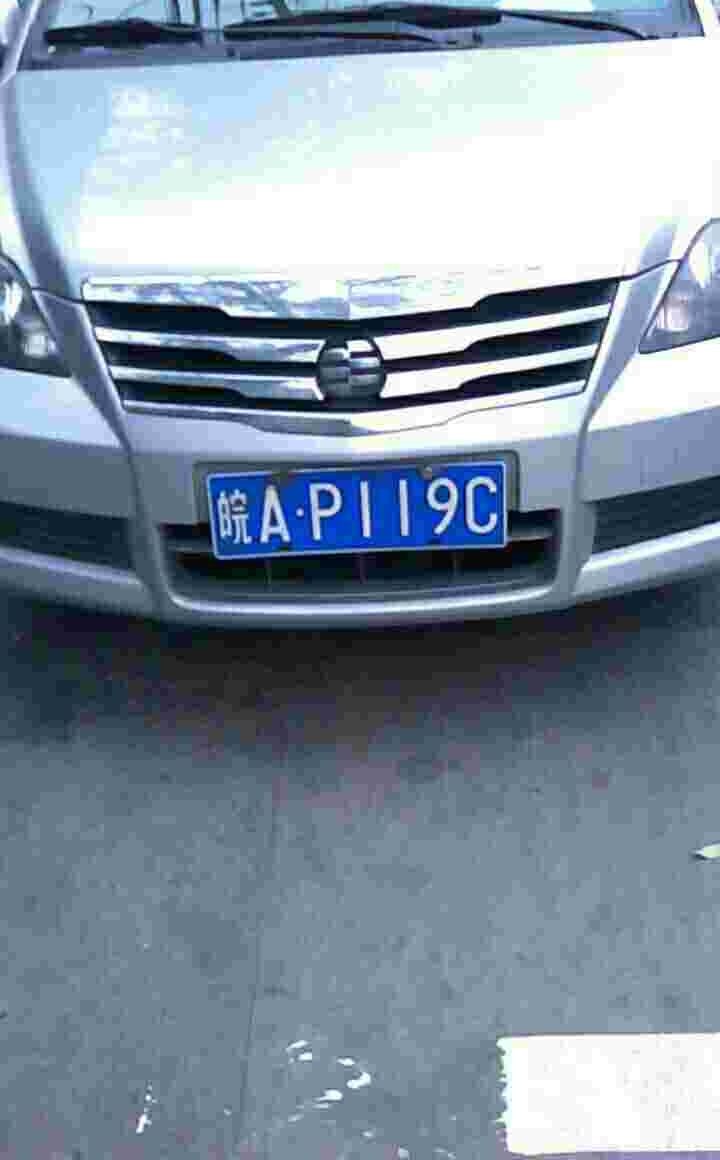license_plate: (210, 464, 511, 568)
